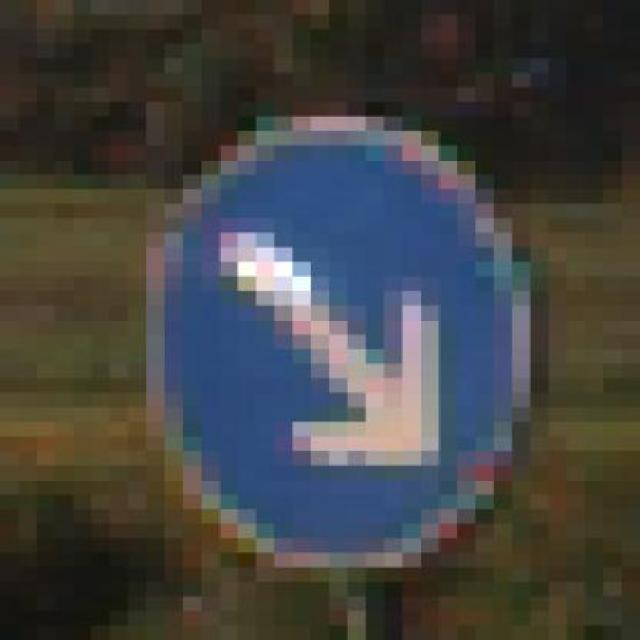Keep-Right: (128, 102, 568, 596)
